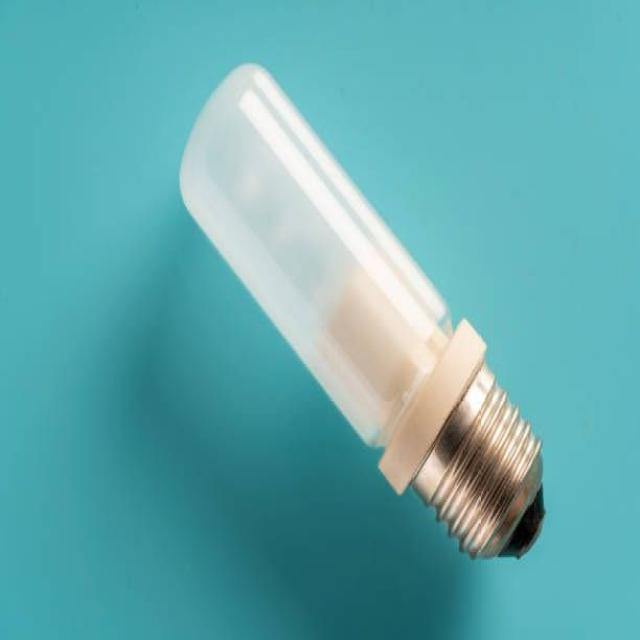electronic: (178, 60, 546, 560)
